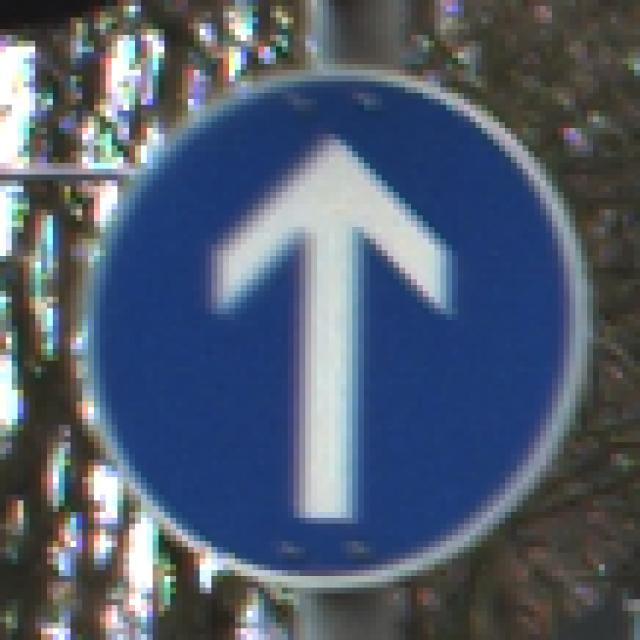compulsary ahead: (83, 69, 593, 593)
